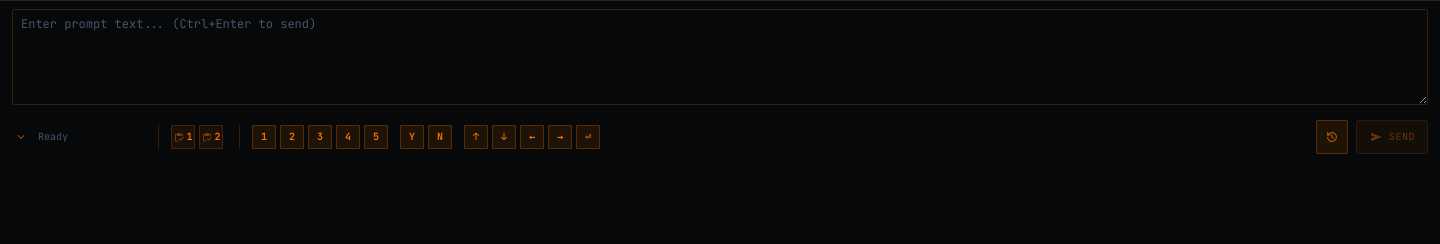
<ComposerInput> history popover keys › Escape closes history without sending keys to the worker
Click the button with test id "prompt-history-button". click: [1332, 137]
box: [1316, 120, 1348, 154]
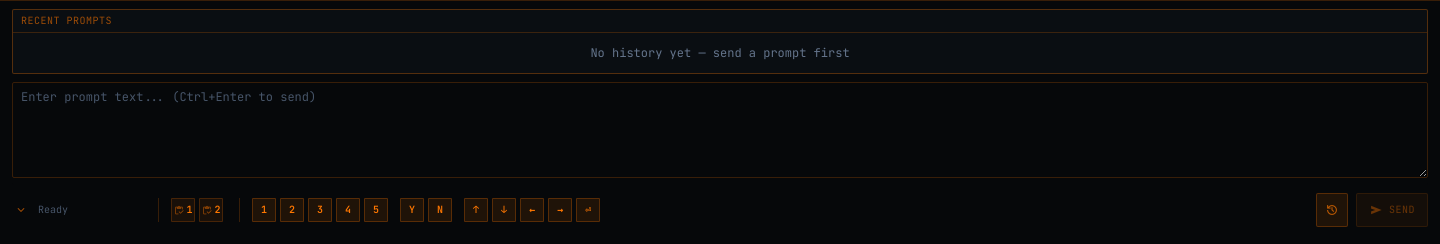
Result: the element with test id "prompt-history-popover" is shown at [12, 9, 1428, 74]
Press Escape in the text box with placeholder "Enter prompt text... (Ctrl+Enter to send)", box [12, 82, 1428, 178]
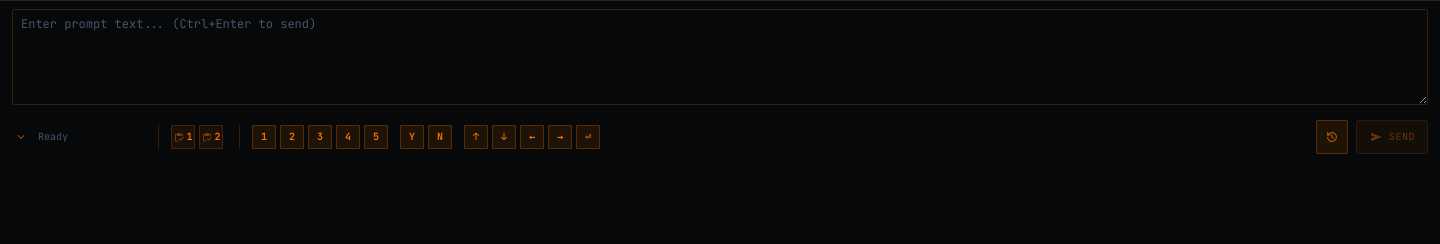
Result: the element with test id "prompt-history-popover" is gone
